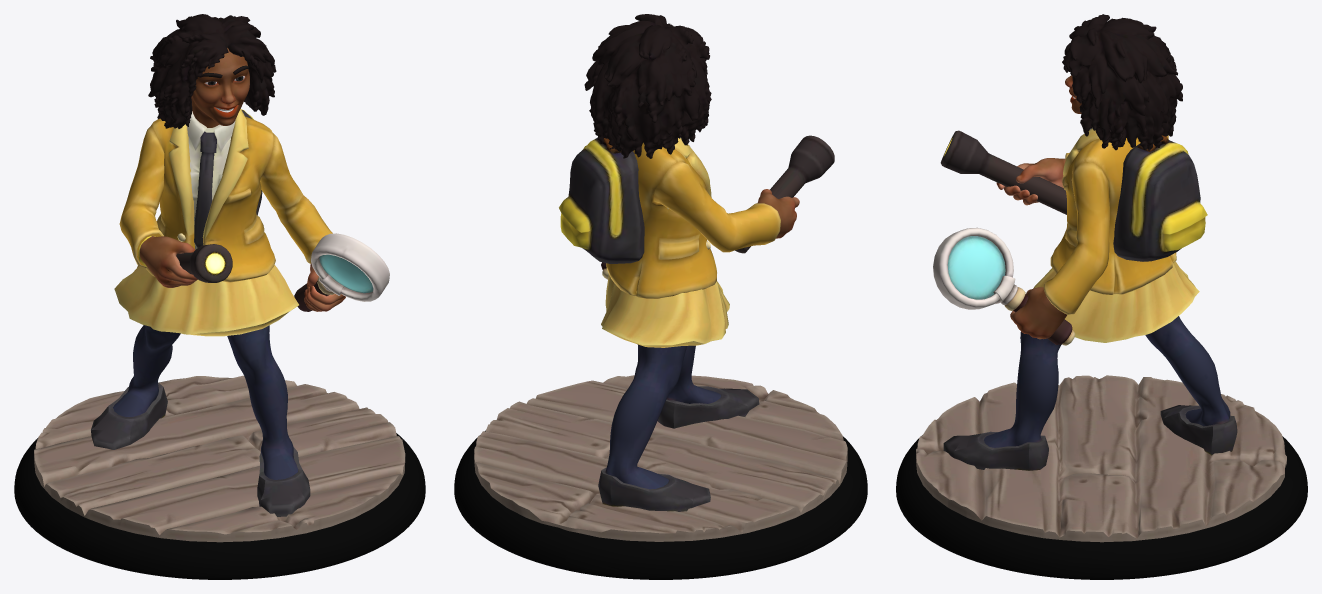
Rendered from anita-hernandez.glb.
3 renders of one model, left to right at view 1: azimuth 30°, elevation 25°; view 2: azimuth 150°, elevation 25°; view 3: azimuth 270°, elevation 25°, orthographic.
Size of the model in its own units: 0.7912 by 1 by 0.7912.
Materials: 1 (1 with a texture image).
